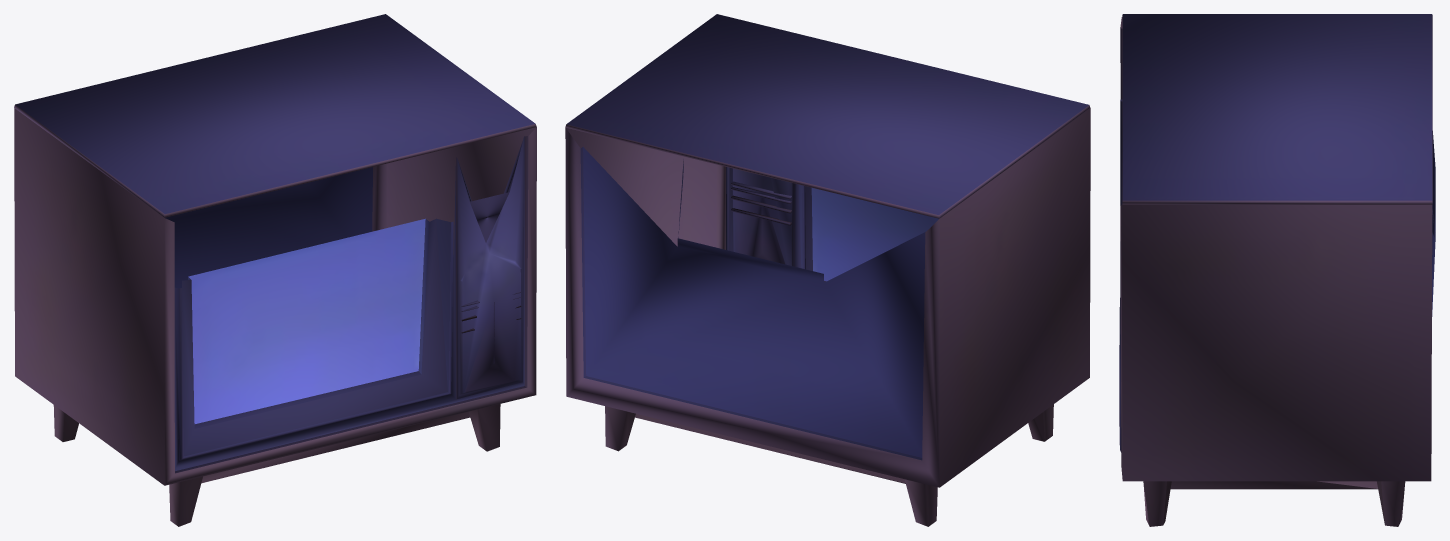
Rendered from model.progressive.glb.
3 views of the same model, side by side, from view 1: azimuth 30°, elevation 25°; view 2: azimuth 150°, elevation 25°; view 3: azimuth 270°, elevation 25° (orthographic). The views are drawn at different scales.
Visible parts, largest first — view 1: mesh_input; view 2: mesh_input; view 3: mesh_input.
Boxes of the visible parts, x1,y1,x2,y2 form: mesh_input: (14,14,536,526); mesh_input: (565,14,1090,526); mesh_input: (1119,14,1435,526).
Bounding box in the file's own units: 1.89 × 1.58 × 1.34.
Materials: 1 (1 with a texture image).
